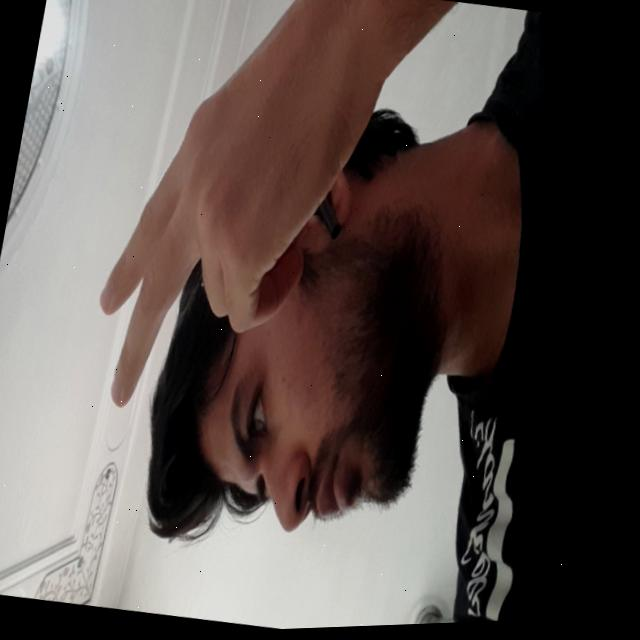Head: (130, 78, 485, 578)
Two: (77, 0, 421, 450)
